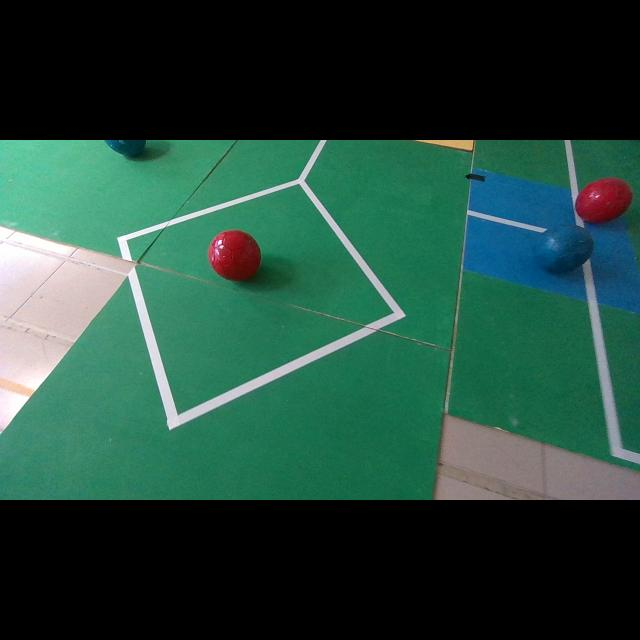B: (534, 225, 594, 272), (105, 140, 146, 156)
R: (209, 231, 261, 281), (575, 178, 632, 222)
